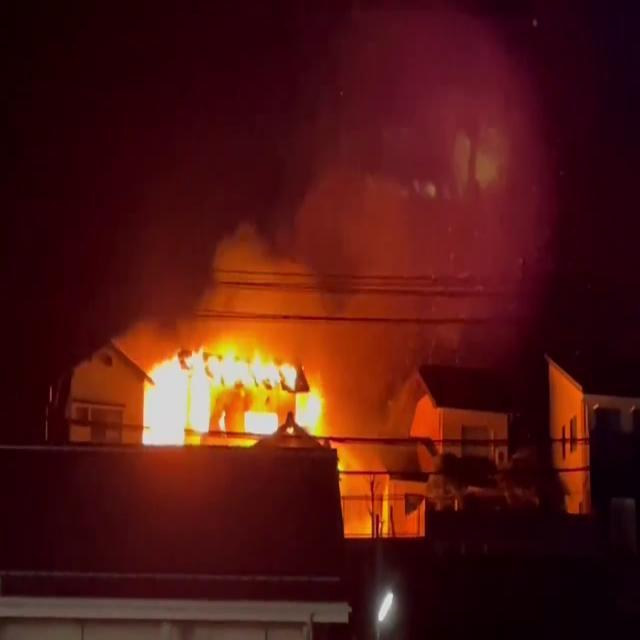Fire: (130, 330, 342, 454)
Smoke: (210, 2, 552, 368)
